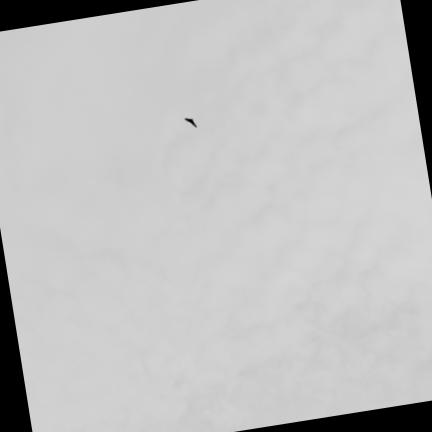Shahed: (185, 119, 196, 126)
